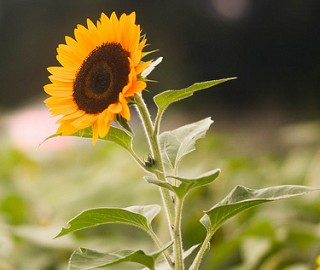flower: (42, 8, 157, 155)
